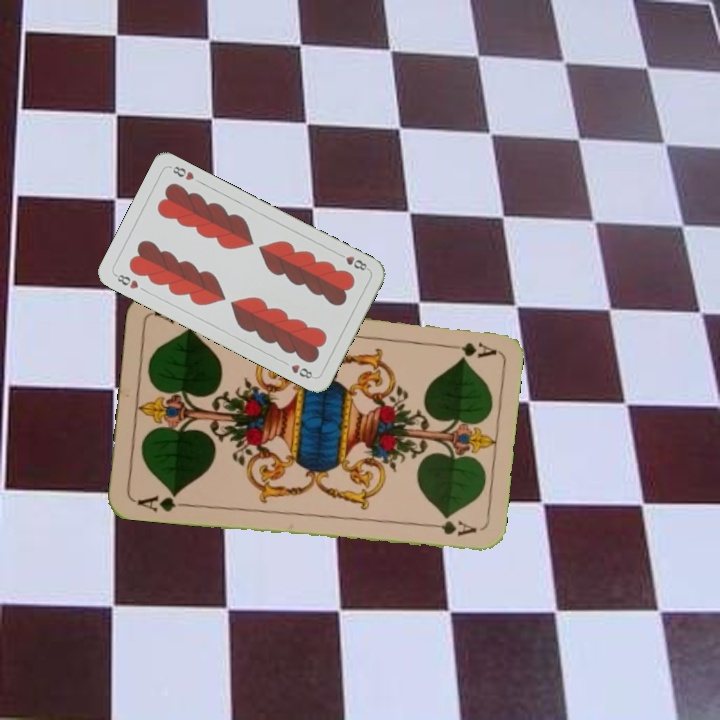GA: (133, 488, 191, 514), (439, 337, 498, 360)
H8: (334, 249, 372, 273), (111, 270, 141, 292)
